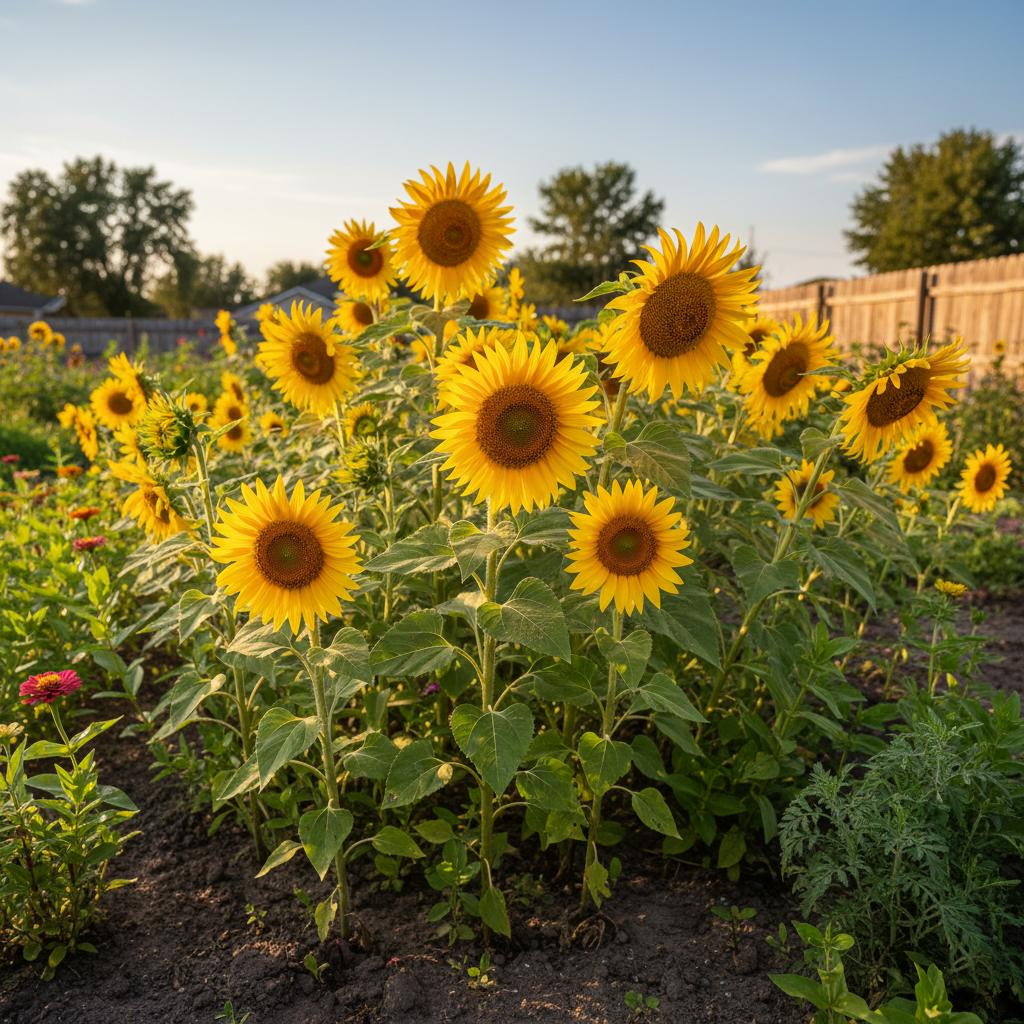sunflower: (427, 332, 603, 515), (597, 220, 762, 404), (206, 473, 365, 637), (562, 476, 694, 616), (387, 159, 516, 302)
